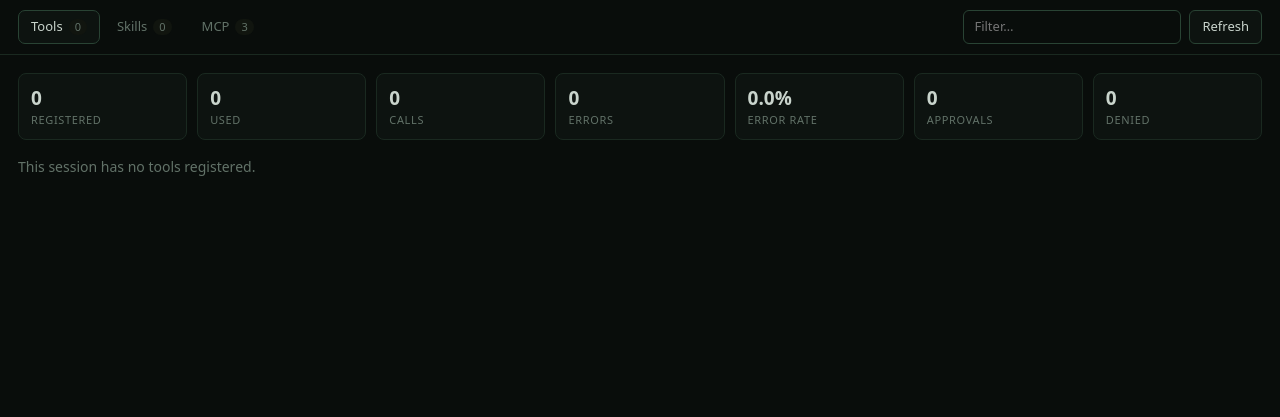
Test: ToolsPage MCP tab › lists configured servers with a remove action
This screenshot has width=1280, height=417.
Click the button "MCP 3" at (228, 27), box [189,10,267,44]
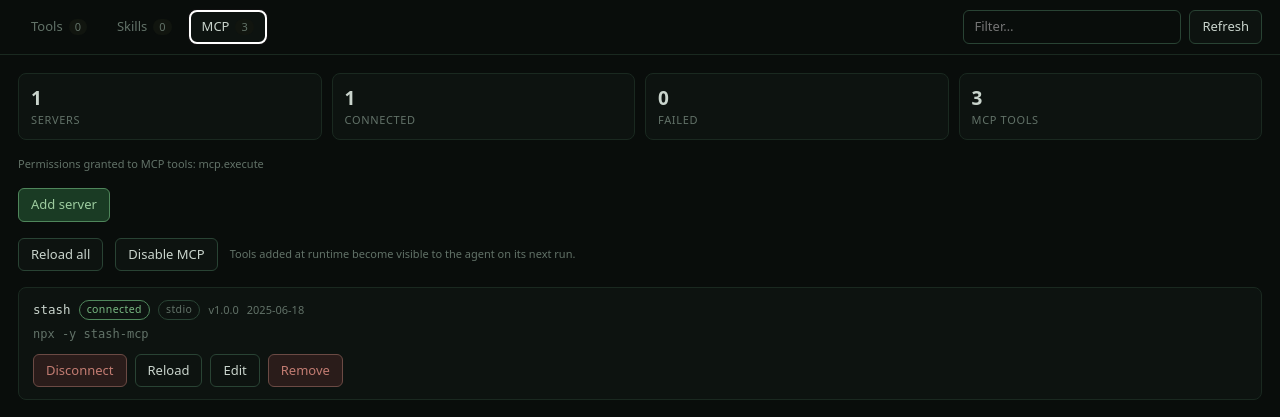
Check: the text "stash" is shown, box [33,300,71,319]
Check: the button "Remove" is shown, box [268,354,343,387]
